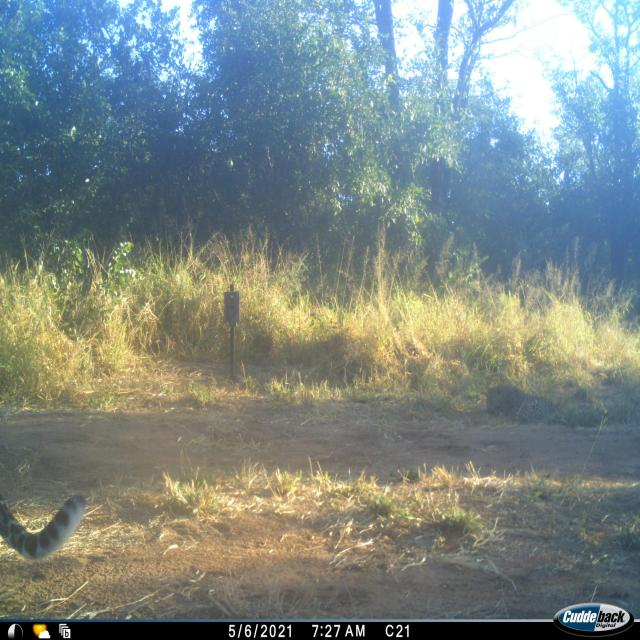Leopard: (1, 479, 90, 578)
